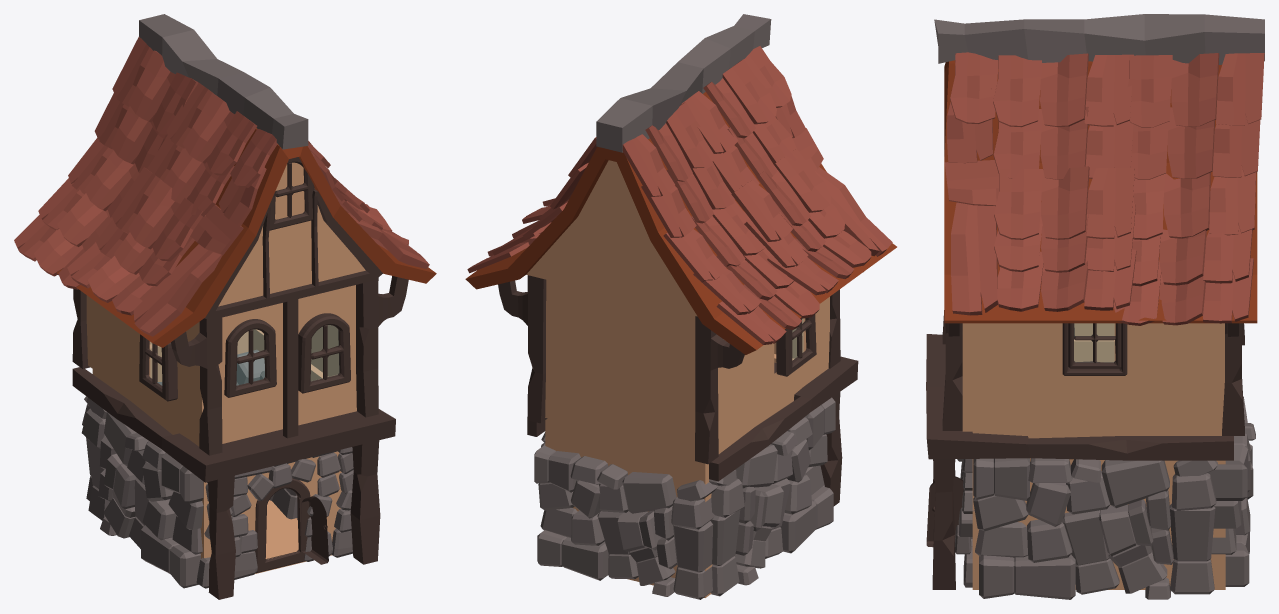
File: FantasyMedivalBuilding4.fbx
3 views of the same model, side by side, from view 1: azimuth 30°, elevation 25°; view 2: azimuth 150°, elevation 25°; view 3: azimuth 270°, elevation 25° (orthographic). The views are drawn at different scales.
Parts seen in each view (by area): view 1: Roof Rocks.002, Wood Frame.002, Building_4, Side Rocks.002, Windows.001, Roof.004, Roof.009, Front Rocks.002, Door; view 2: Roof Rocks.002, Building_4, Back Rocks.002, Side Rocks.002, Wood Frame.002, Roof.004, Roof.009, Windows.001; view 3: Roof Rocks.002, Side Rocks.002, Building_4, Wood Frame.002, Roof.009, Roof.004, Back Rocks.002, Windows.001, Front Rocks.002, Door.
Boxes of the visible parts, bbox=[...] form: Roof Rocks.002: bbox=[14, 37, 429, 336]; Wood Frame.002: bbox=[58, 189, 408, 599]; Building_4: bbox=[86, 162, 365, 573]; Side Rocks.002: bbox=[81, 349, 297, 588]; Windows.001: bbox=[139, 157, 350, 401]; Roof.004: bbox=[56, 128, 436, 347]; Roof.009: bbox=[139, 14, 308, 149]; Front Rocks.002: bbox=[196, 447, 353, 588]; Door: bbox=[254, 478, 328, 573]; Roof Rocks.002: bbox=[467, 46, 892, 344]; Building_4: bbox=[526, 160, 829, 597]; Back Rocks.002: bbox=[534, 445, 717, 599]; Side Rocks.002: bbox=[541, 397, 835, 596]; Wood Frame.002: bbox=[498, 275, 858, 506]; Roof.004: bbox=[465, 92, 896, 354]; Roof.009: bbox=[596, 14, 771, 152]; Windows.001: bbox=[776, 314, 816, 376]; Roof Rocks.002: bbox=[944, 52, 1264, 325]; Side Rocks.002: bbox=[973, 458, 1217, 599]; Building_4: bbox=[962, 323, 1225, 589]; Wood Frame.002: bbox=[926, 310, 1244, 589]; Roof.009: bbox=[934, 14, 1264, 64]; Roof.004: bbox=[944, 60, 1257, 323]; Back Rocks.002: bbox=[1208, 396, 1255, 586]; Windows.001: bbox=[1062, 323, 1127, 375]; Front Rocks.002: bbox=[955, 459, 974, 587]; Door: bbox=[926, 476, 963, 547].
Size of the model in its own units: 3805 by 5658 by 3298.
